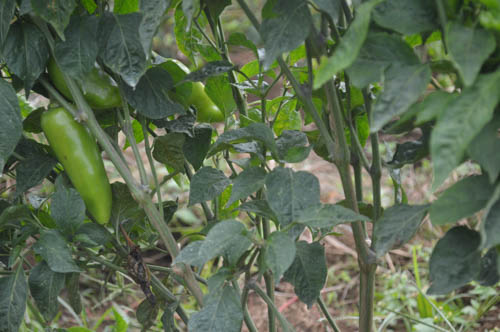ChiliPepper: (49, 109, 112, 225), (156, 57, 222, 124), (52, 56, 122, 108)
